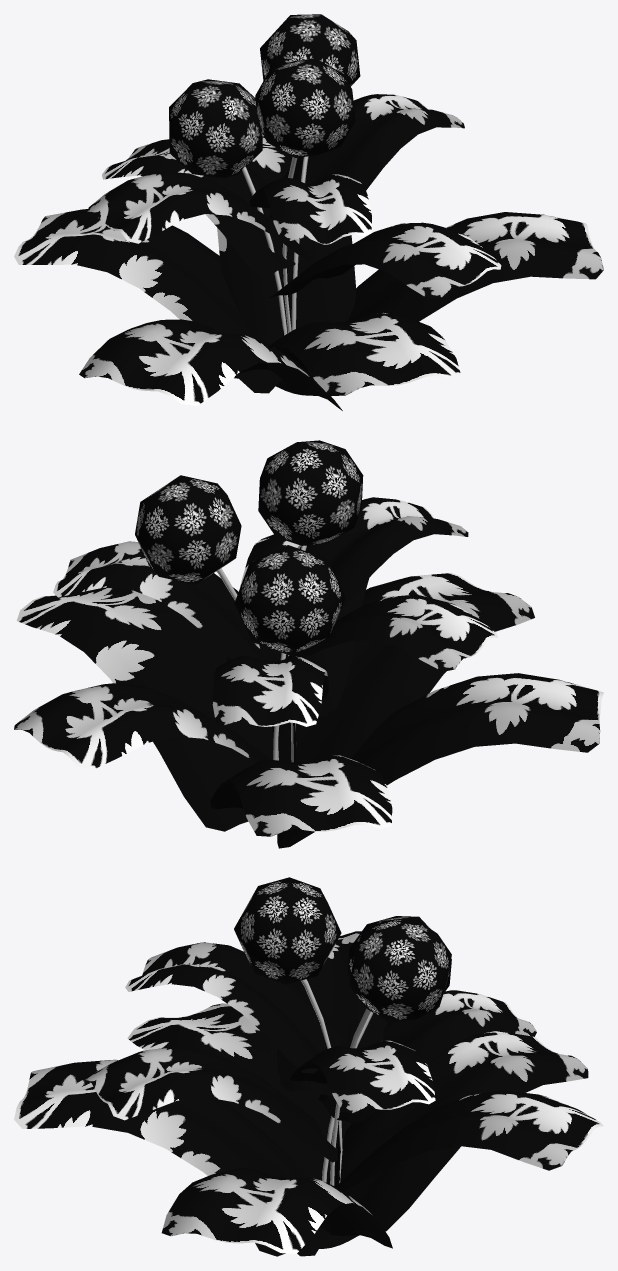
Rendered from SM_Flower_D.glb.
3 views of the same model, one above another, from view 1: azimuth 30°, elevation 25°; view 2: azimuth 150°, elevation 25°; view 3: azimuth 270°, elevation 25° (orthographic). The views are drawn at different scales.
Visible parts, largest first — view 1: SM_Flower_D_LOD0; view 2: SM_Flower_D_LOD0; view 3: SM_Flower_D_LOD0.
Part boxes in pixels (bbox=[...]): SM_Flower_D_LOD0: bbox=[14, 14, 603, 410]; SM_Flower_D_LOD0: bbox=[14, 440, 603, 848]; SM_Flower_D_LOD0: bbox=[14, 877, 603, 1256].
Bounding box in the file's own units: 1.25 × 0.8045 × 1.2.
Materials: 2 (2 with a texture image).
